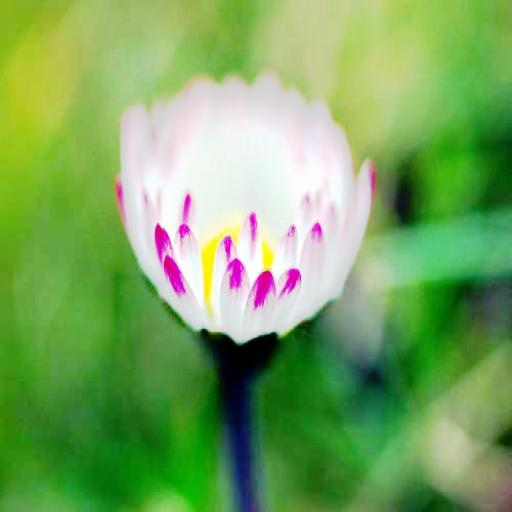daisy: (123, 75, 364, 337)
